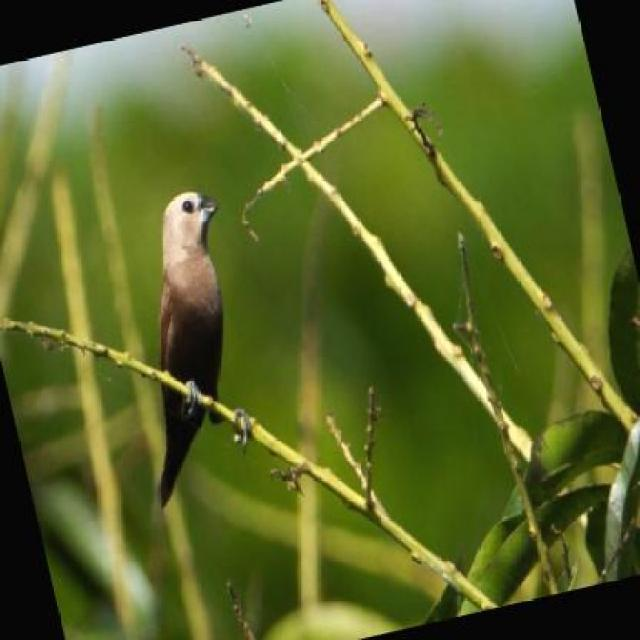Bird: (129, 166, 245, 517)
